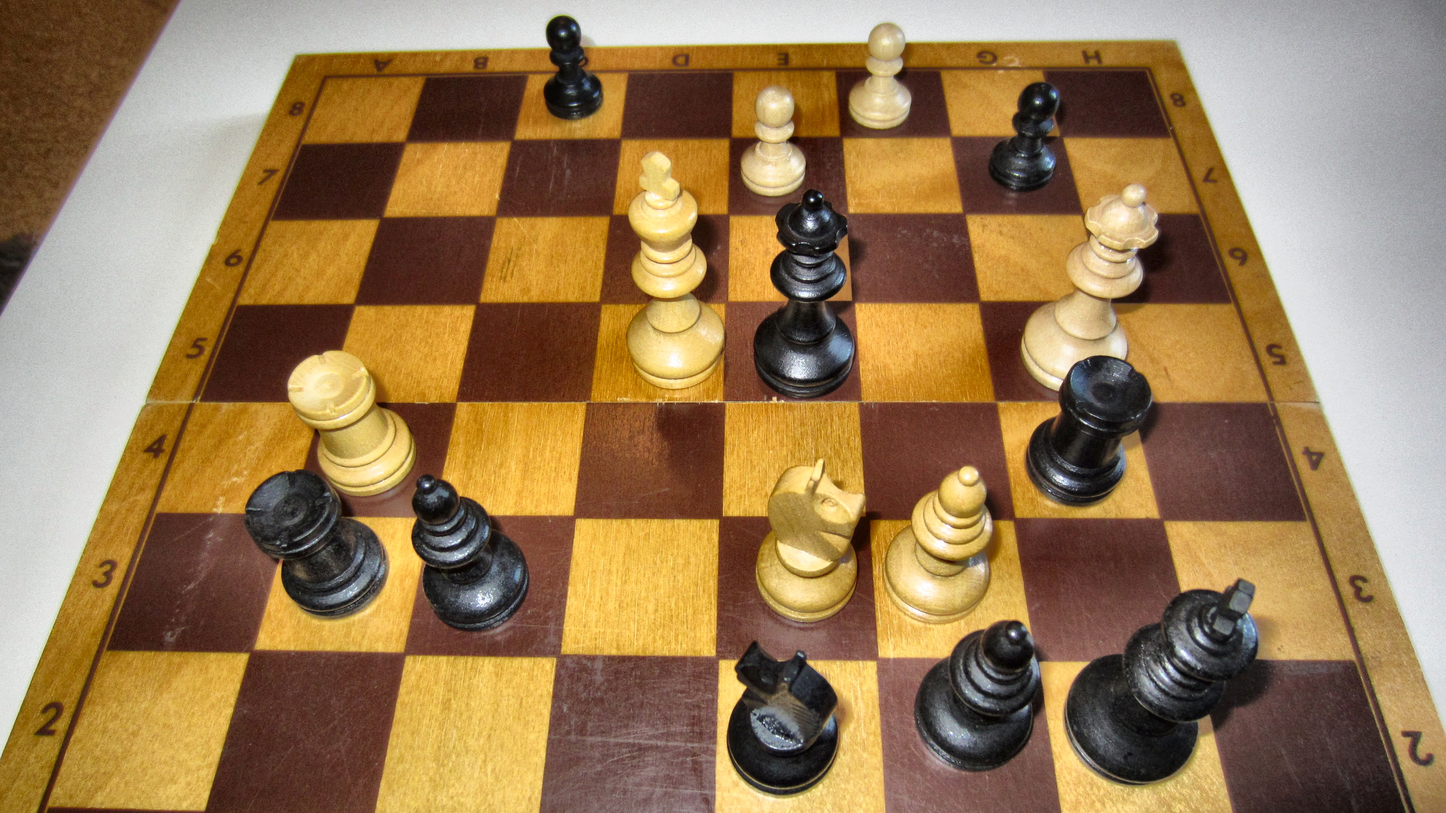black-bishop: (914, 617, 1041, 774), (408, 474, 531, 632)
black-king: (1061, 576, 1262, 788), (724, 639, 843, 797)
black-pawn: (987, 81, 1060, 193), (543, 14, 604, 120)
black-queen: (751, 188, 856, 401)
black-rook: (244, 468, 391, 622), (1022, 354, 1156, 508)
white-bishop: (880, 464, 994, 626)
white-king: (625, 151, 726, 391)
white-knight: (753, 458, 867, 628)
white-pawn: (739, 85, 807, 197), (847, 23, 912, 130)
white-queen: (1018, 182, 1161, 395)
white-rook: (285, 349, 418, 497)
